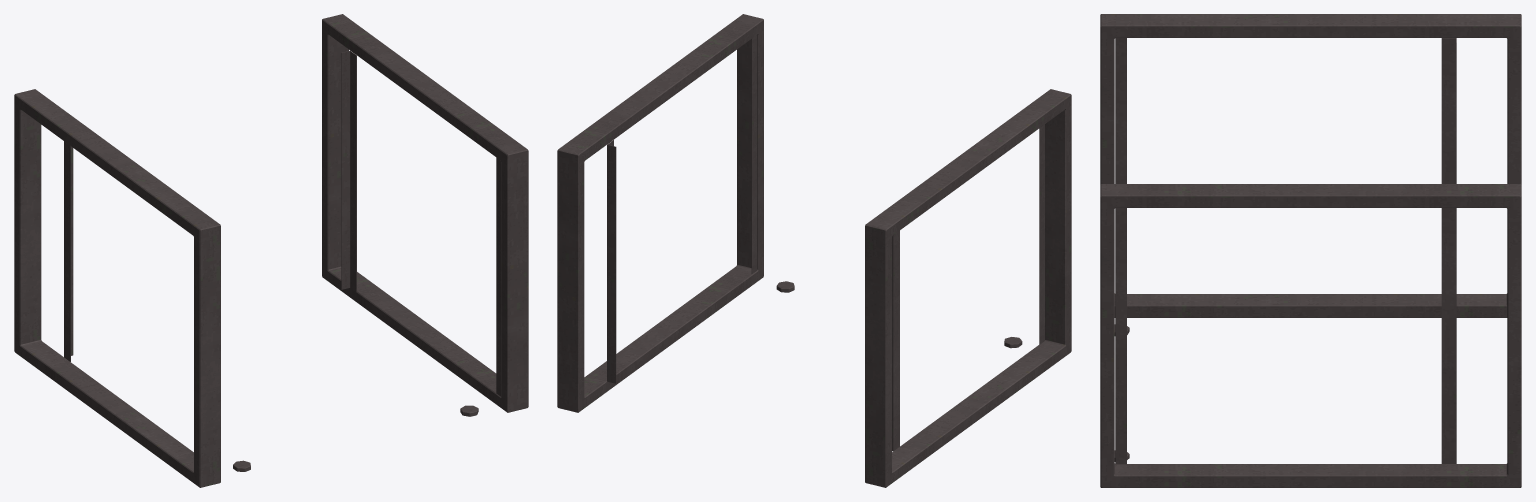
3 renders of one model, left to right at view 1: azimuth 30°, elevation 25°; view 2: azimuth 150°, elevation 25°; view 3: azimuth 270°, elevation 25°, orthographic. The views are drawn at different scales.
Visible parts, largest first — view 1: unicolor_black_1; view 2: unicolor_black_1; view 3: unicolor_black_1.
Boxes of the visible parts, bbox=[...] form: unicolor_black_1: bbox=[14, 14, 528, 487]; unicolor_black_1: bbox=[557, 14, 1071, 487]; unicolor_black_1: bbox=[1100, 14, 1521, 487].
Bounding box in the file's own units: 0.6095 × 0.4574 × 0.5963.
Materials: 1 (1 with a texture image).
